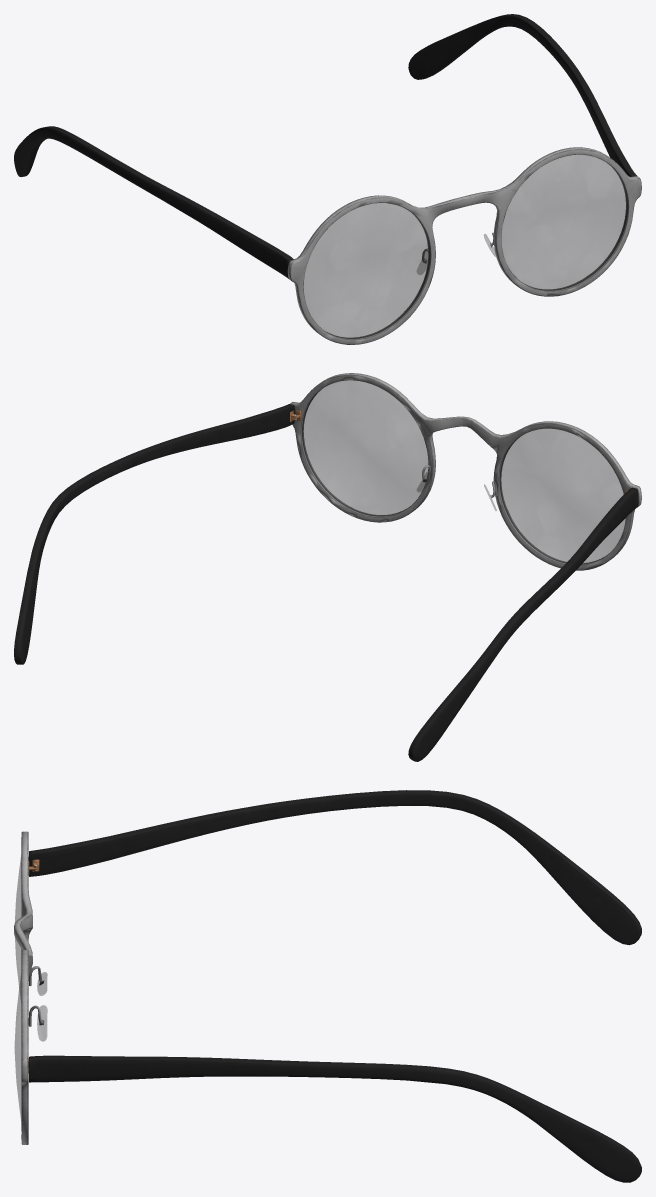
The model's file is round_spectacles.glb.
3 renders of one model, top to bottom at view 1: azimuth 30°, elevation 25°; view 2: azimuth 150°, elevation 25°; view 3: azimuth 270°, elevation 25°, orthographic. The views are drawn at different scales.
Visible parts, largest first — view 1: round_spectacles; view 2: round_spectacles; view 3: round_spectacles.
Boxes of the visible parts, x1,y1,x2,y2 form: round_spectacles: (14,14,641,344); round_spectacles: (14,373,641,761); round_spectacles: (14,790,641,1182).
Size of the model in its own units: 0.1578 by 0.0463 by 0.149.
2 materials, 2 textured.
